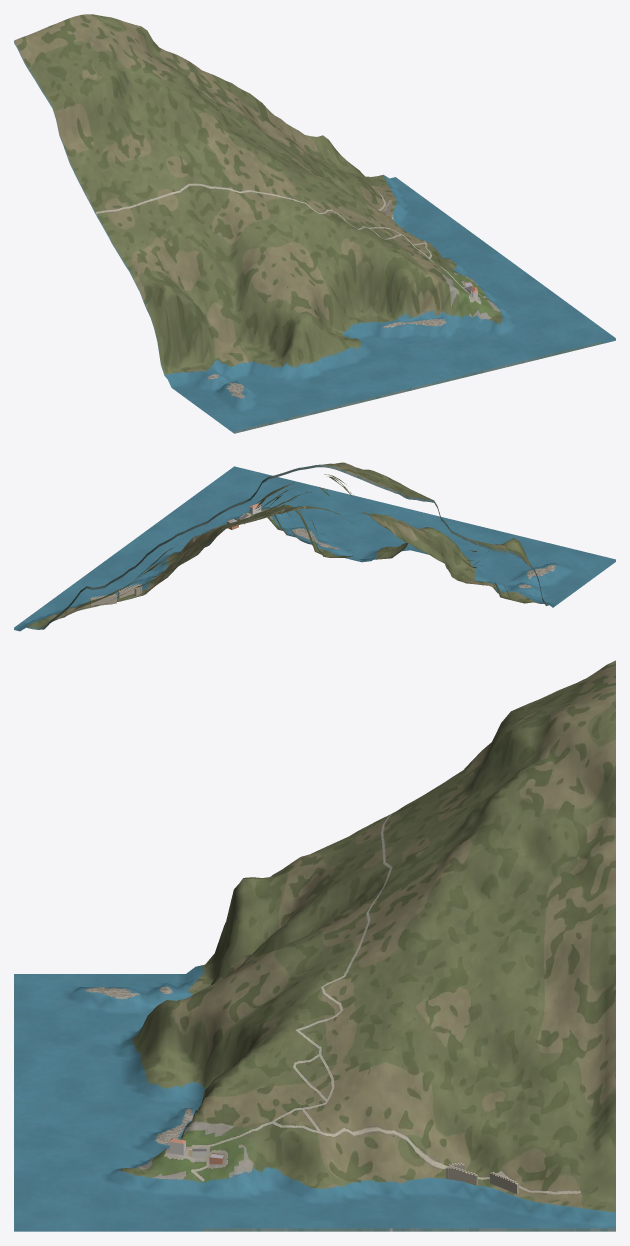
3 views of the same model, one above another, from view 1: azimuth 30°, elevation 25°; view 2: azimuth 150°, elevation 25°; view 3: azimuth 270°, elevation 25° (orthographic). The views are drawn at different scales.
Parts seen in each view (by area): view 1: terrain; view 2: terrain, buildings; view 3: terrain, buildings.
Part boxes in pixels (x1,y1,x2,y2): terrain: [14, 14, 615, 433]; terrain: [14, 462, 615, 631]; buildings: [90, 503, 261, 605]; terrain: [14, 660, 615, 1231]; buildings: [169, 1138, 518, 1193].
Size of the model in its own units: 500 by 302 by 500.
2 materials, 1 textured.
